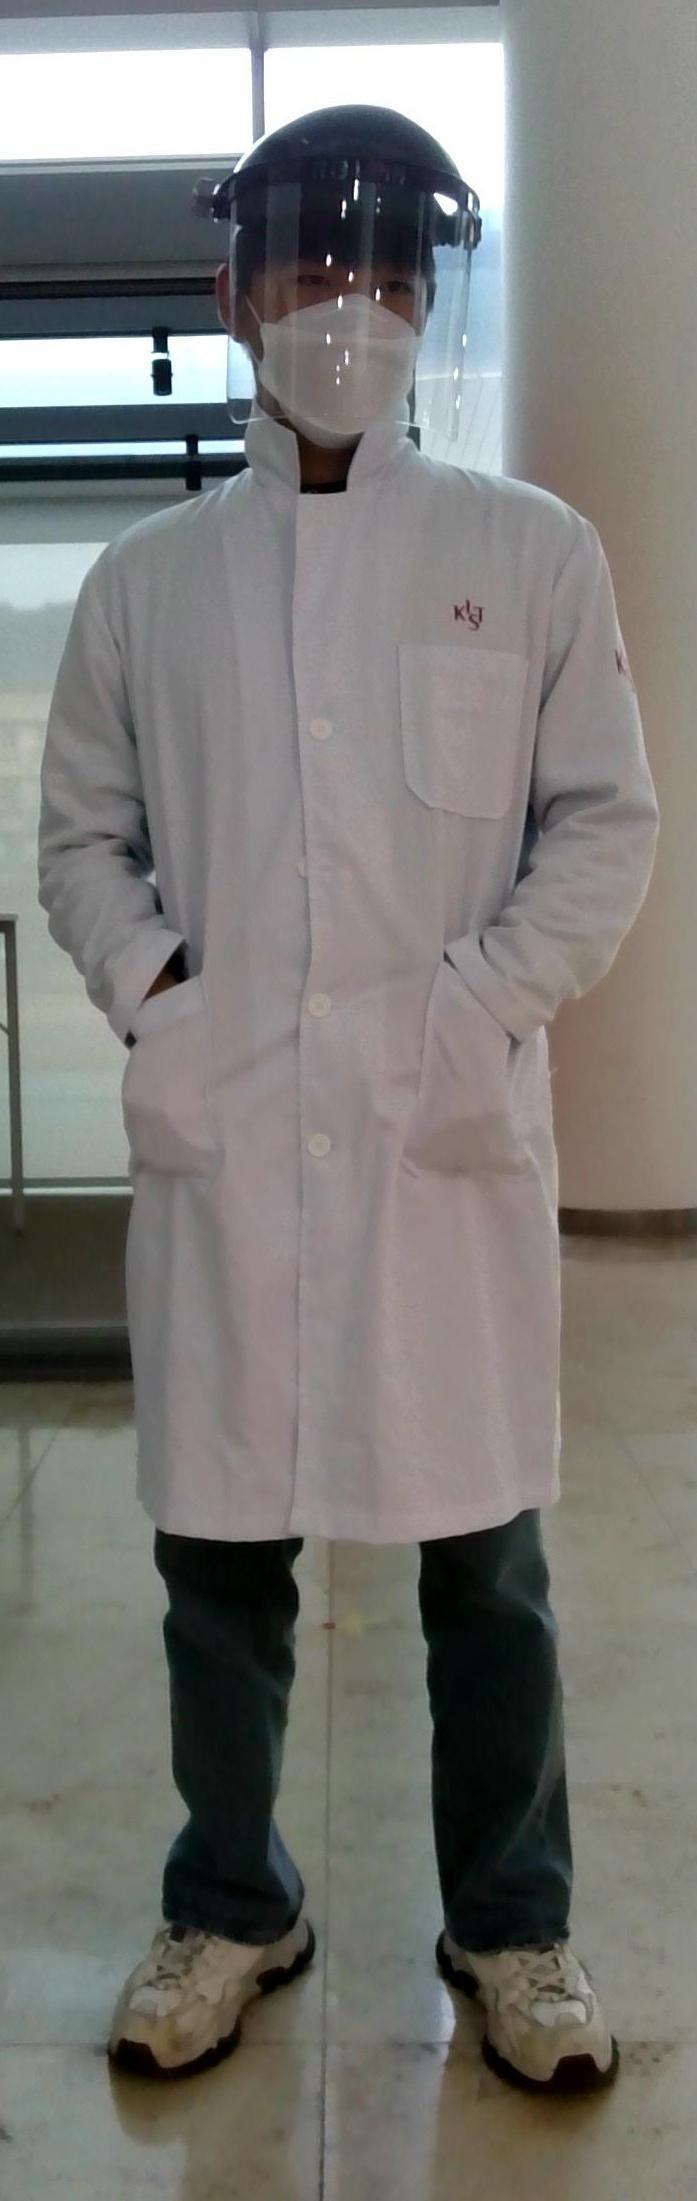lab_coat: (36, 501, 672, 1593)
